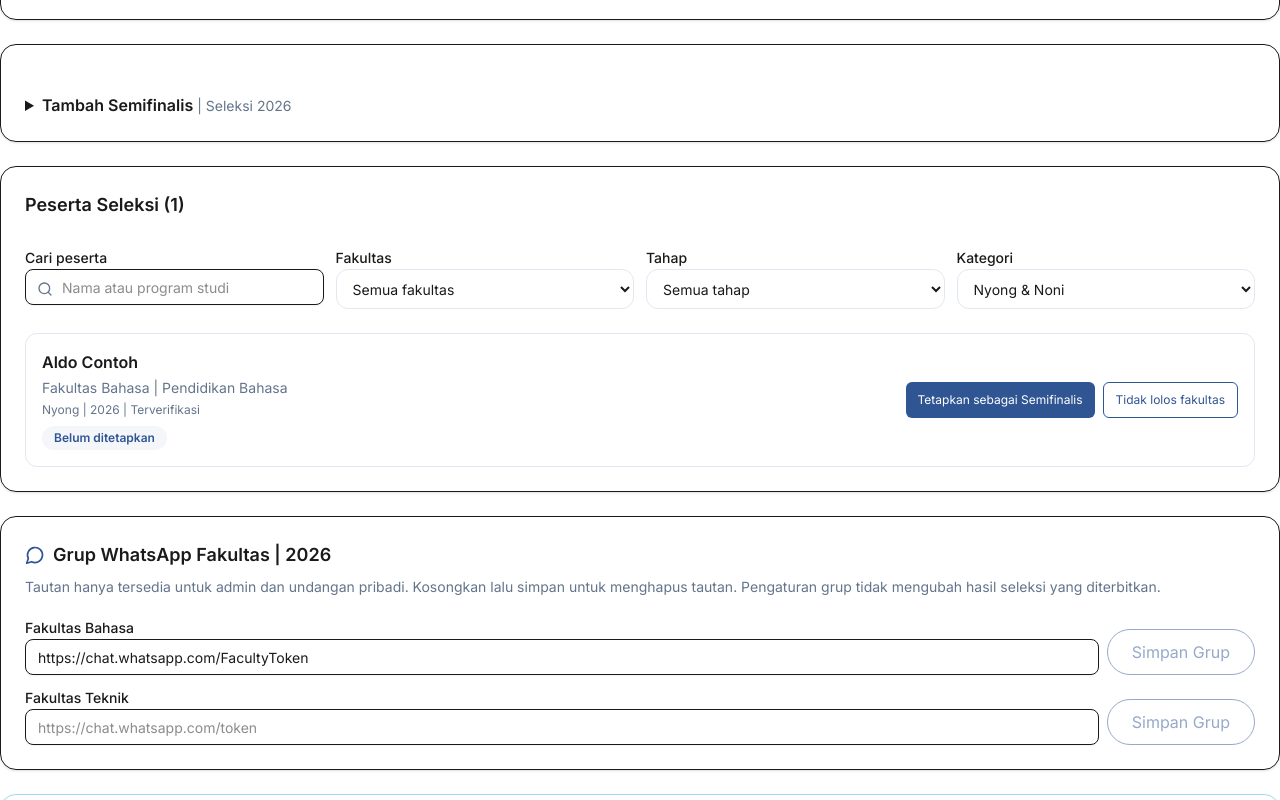
it: Selection admin › keeps a failed mutation visible without offering an invitation
The width and height of the screenshot is (1280, 800).
(page scrolled)
Click the button "Tetapkan sebagai Semifinalis" at (1000, 400), box [906,382,1094,418]
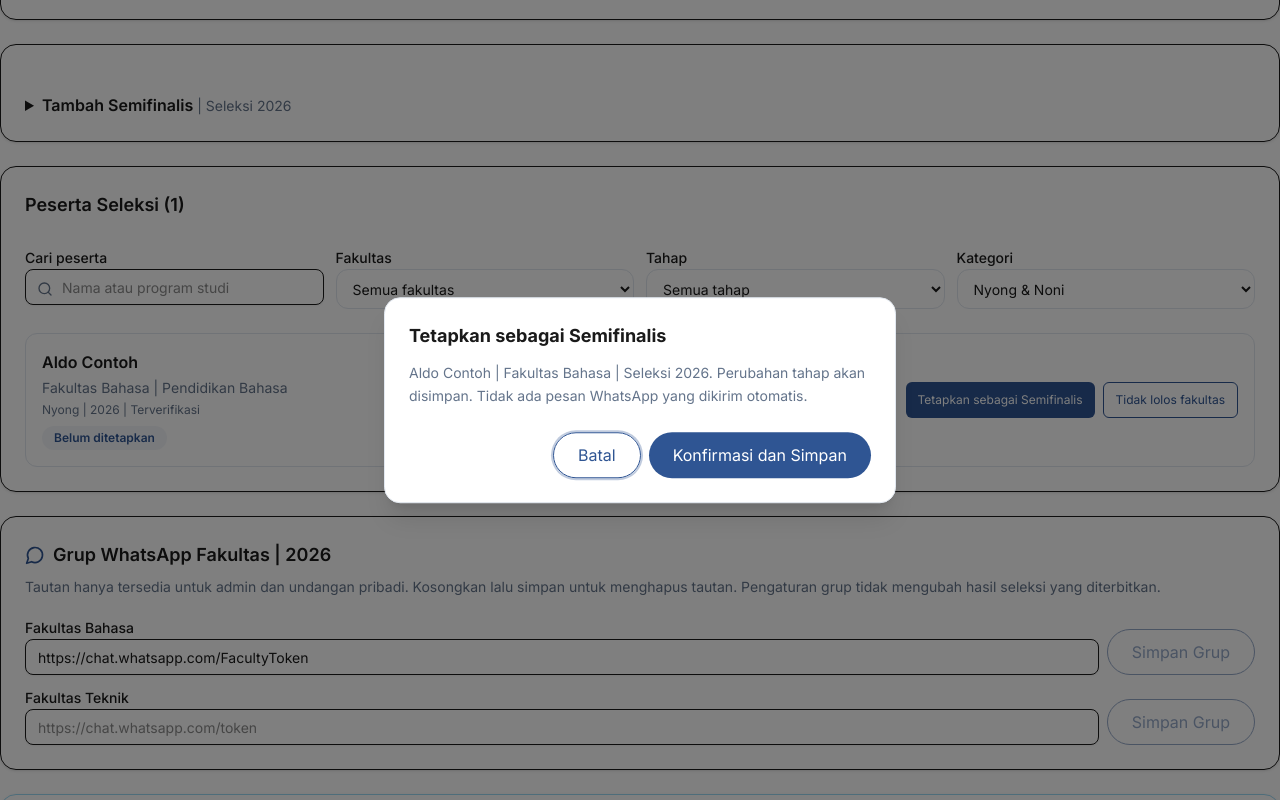
Click the button "Konfirmasi dan Simpan" at (760, 455), box [649,432,871,478]
(page scrolled)
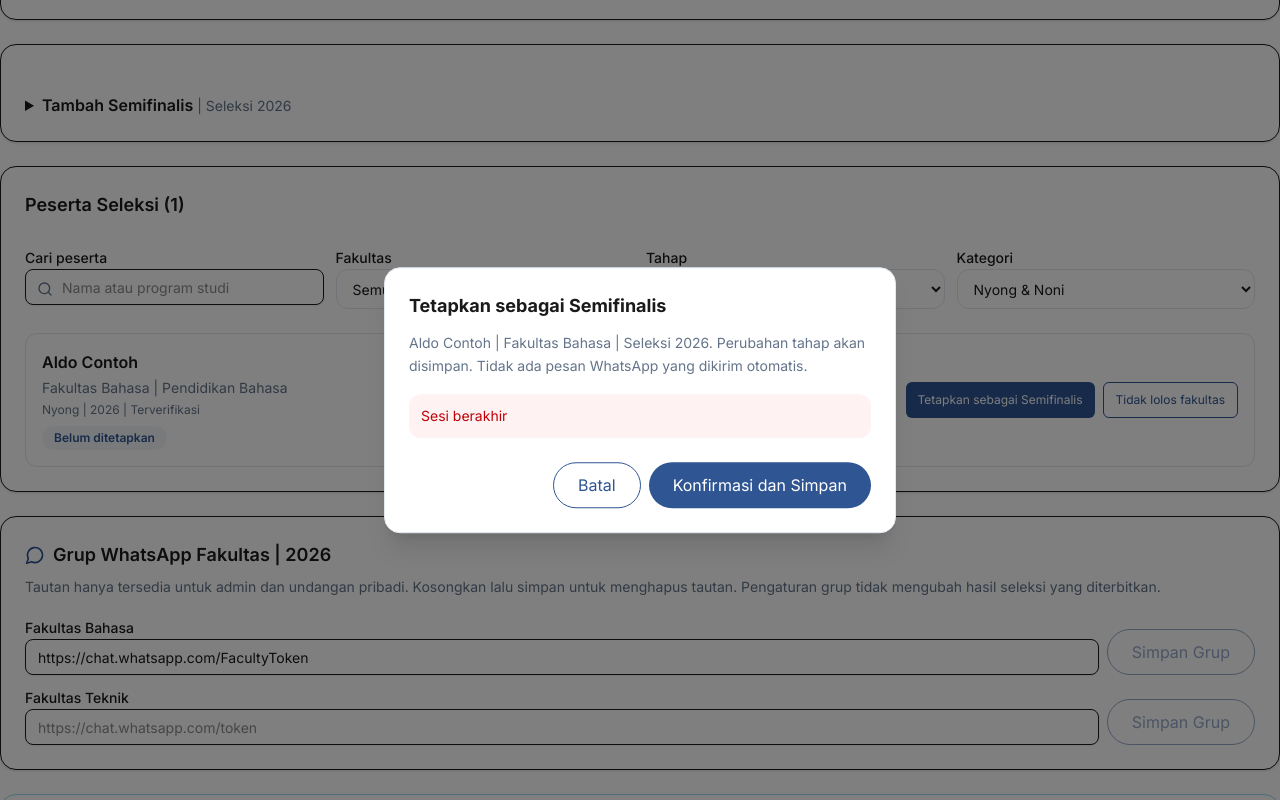
Result: the message reads "Sesi berakhir" at [421,407,507,424]
